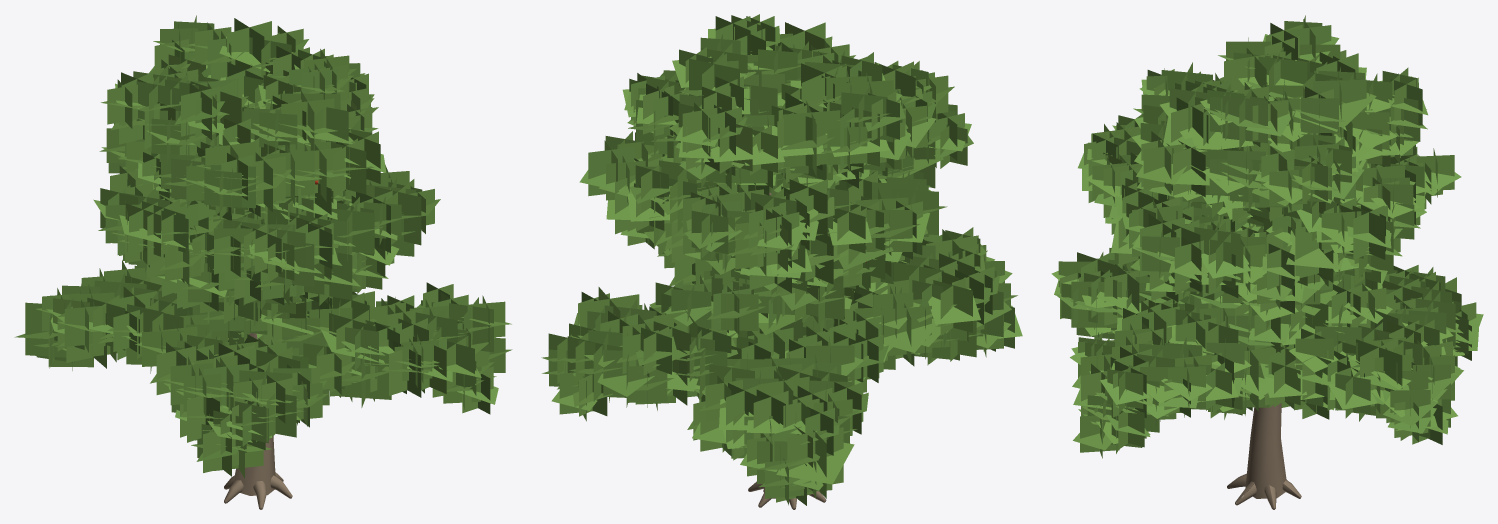
The model's file is pommier_3_jeu.glb.
The picture shows the model from 3 angles, left to right: view 1: azimuth 30°, elevation 25°; view 2: azimuth 150°, elevation 25°; view 3: azimuth 270°, elevation 25°; orthographic projection. The views are drawn at different scales.
Parts seen in each view (by area): view 1: Pommier_T3_Leger; view 2: Pommier_T3_Leger; view 3: Pommier_T3_Leger.
Boxes of the visible parts, left/top/right/bottom form: Pommier_T3_Leger: left=14, top=15, right=512, bottom=509; Pommier_T3_Leger: left=541, top=14, right=1022, bottom=509; Pommier_T3_Leger: left=1051, top=15, right=1483, bottom=509.
Size of the model in its own units: 5.91 by 7.43 by 6.77.
